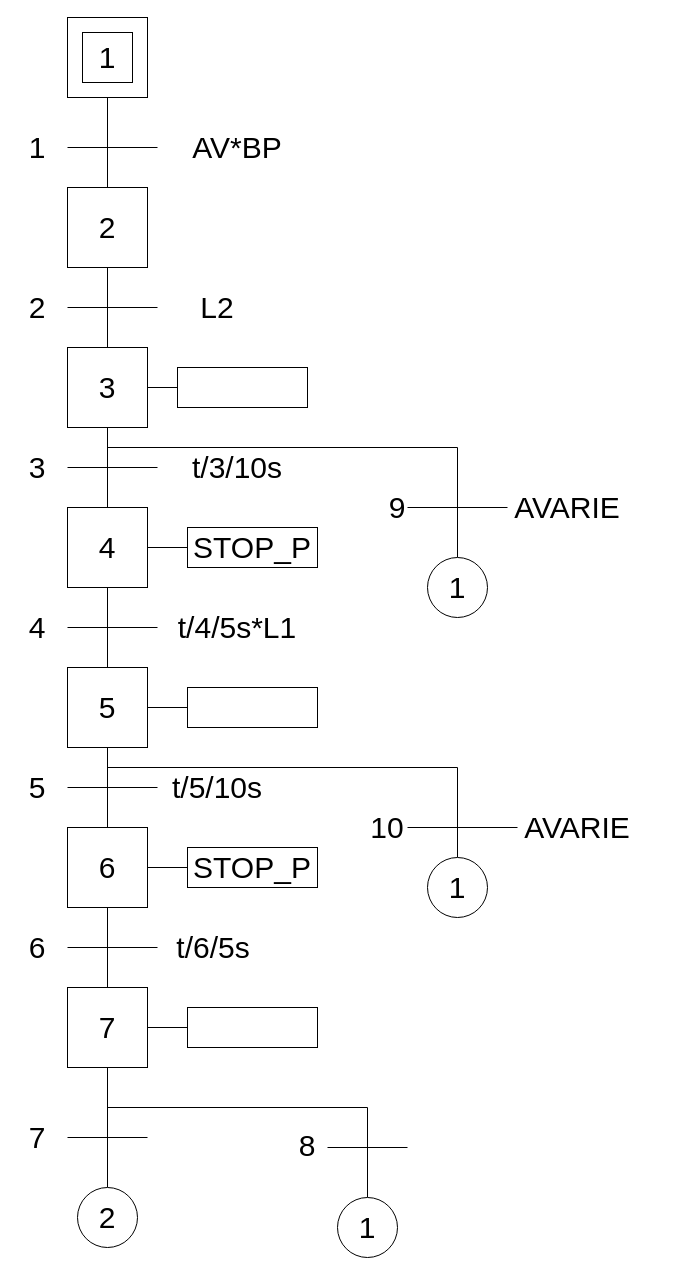
This 674x1275 diagram has some shape labels left out. Each missing label, with the centre of its shape:
"C:=C+1" goes at point (252, 1027).
"RUN_L1" goes at point (252, 707).
"RUN_L2" goes at point (242, 387).
